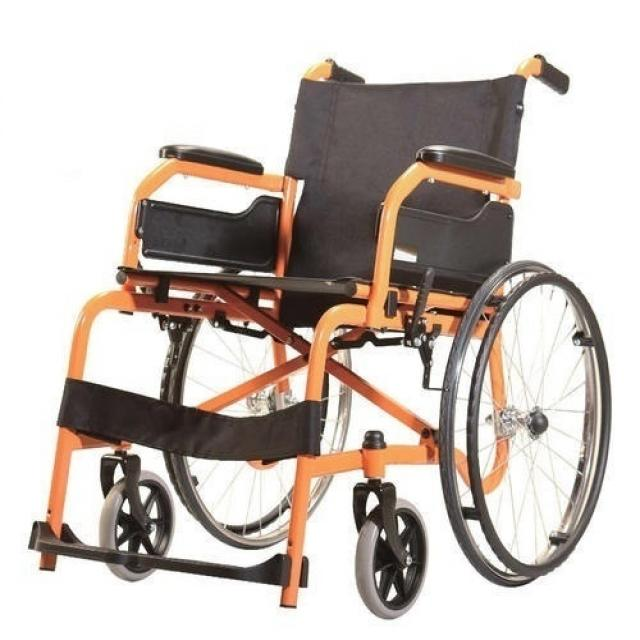wheelchair: (21, 45, 627, 628)
